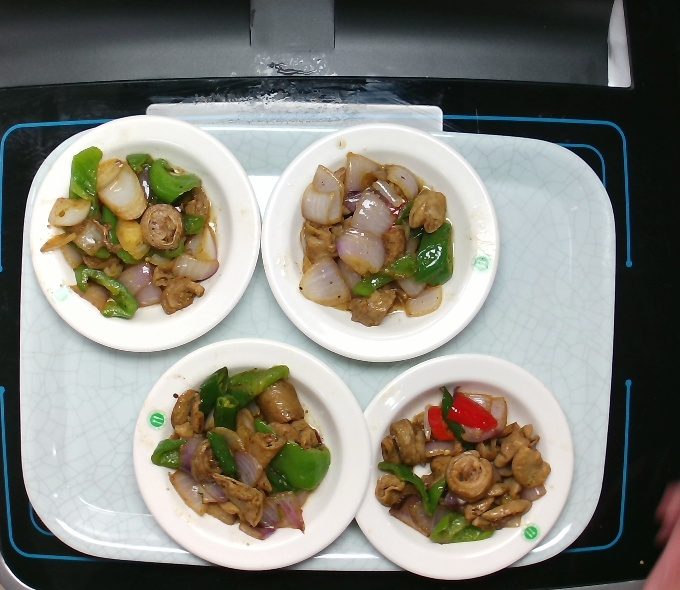wcq-QingJiaoChaoDaChang: (36, 139, 226, 325), (146, 359, 336, 542), (370, 382, 556, 549), (291, 150, 459, 331)
